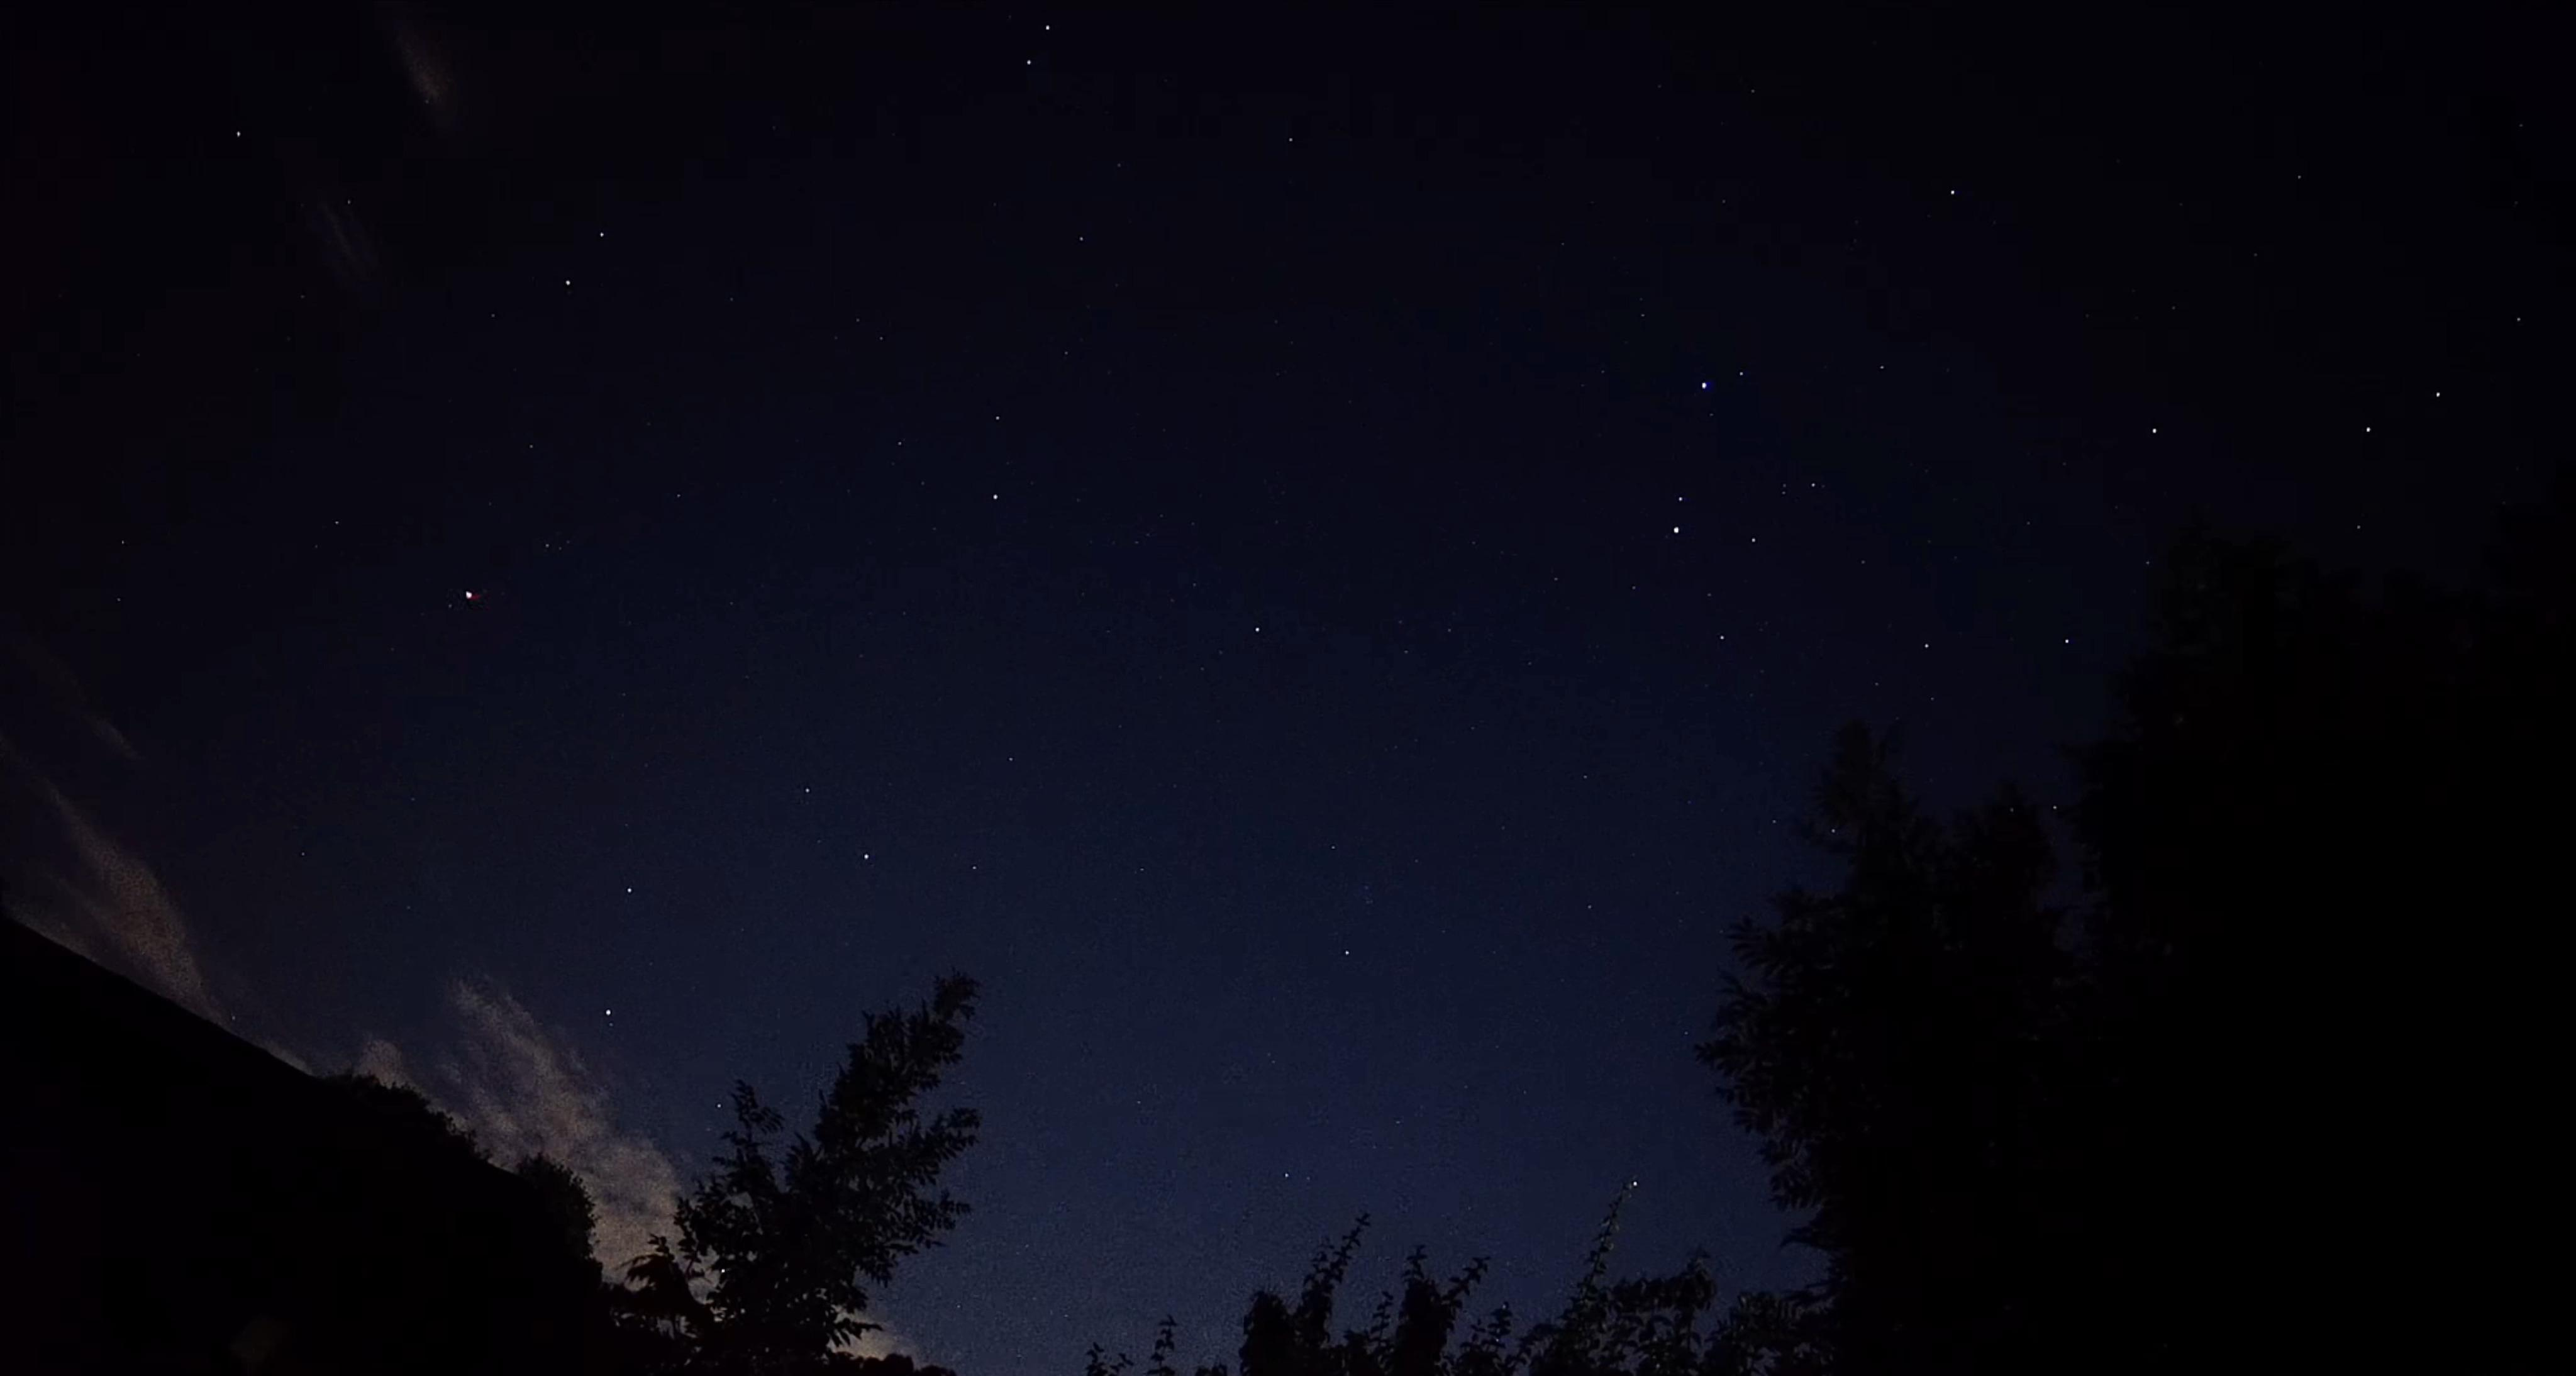Plane: (443, 577, 494, 613)
